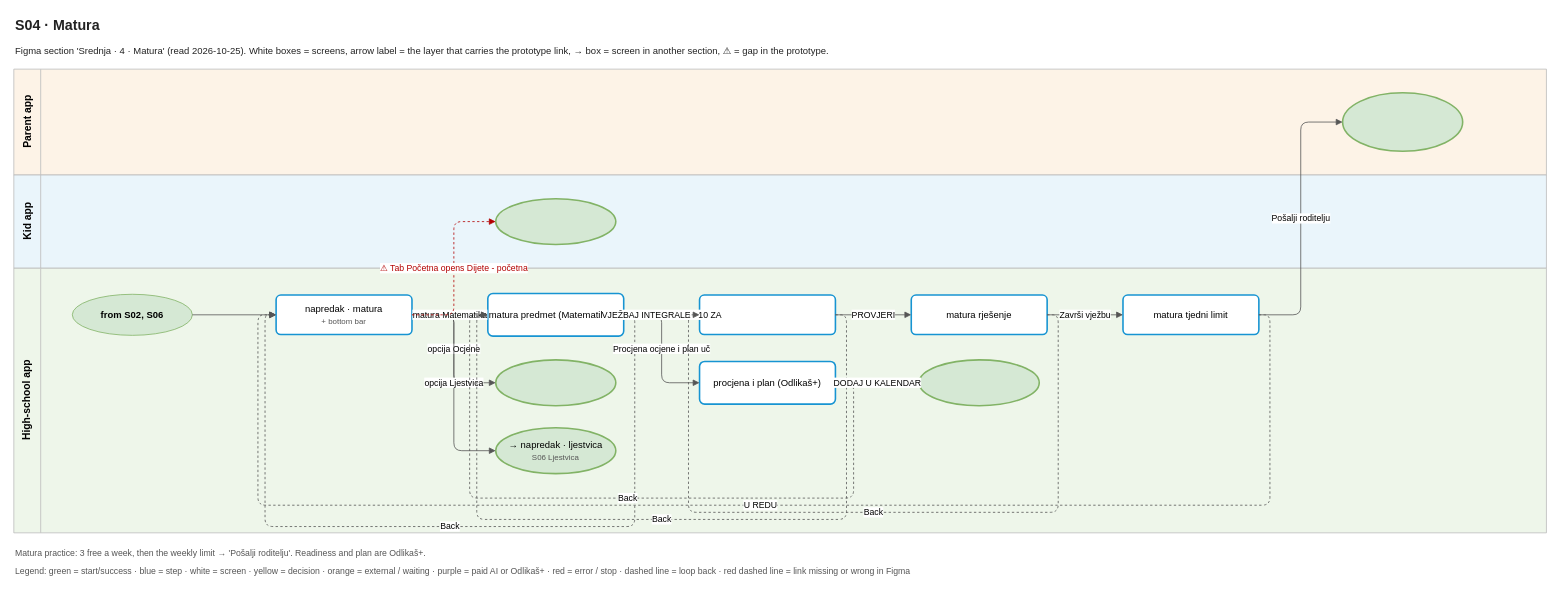
This 1560x592 diagram has some shape labels left out. The shapes that lost their labels are listed below. From the top down, each one's centre as x and y in pixels, then its label:
At [1402,122]: "→ Ivan (srednja) S05 Profil, roditelj i Odlikaš+".
At [555,221]: "→ početna D02 Početna i navigacija".
At [767,314]: "matura zadatak".
At [555,382]: "→ napredak · ocjene S02 Početna i ocjene".
At [979,382]: "→ kalendar ispita S02 Početna i ocjene".
